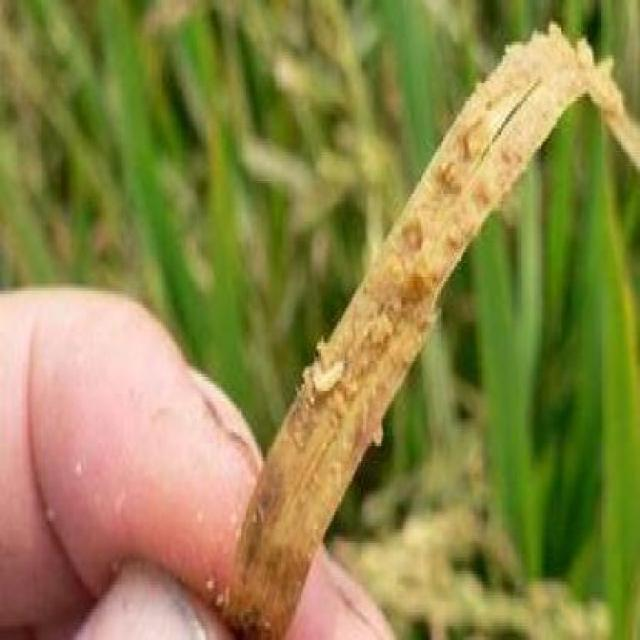whorl-maggot: (304, 339, 348, 406)
